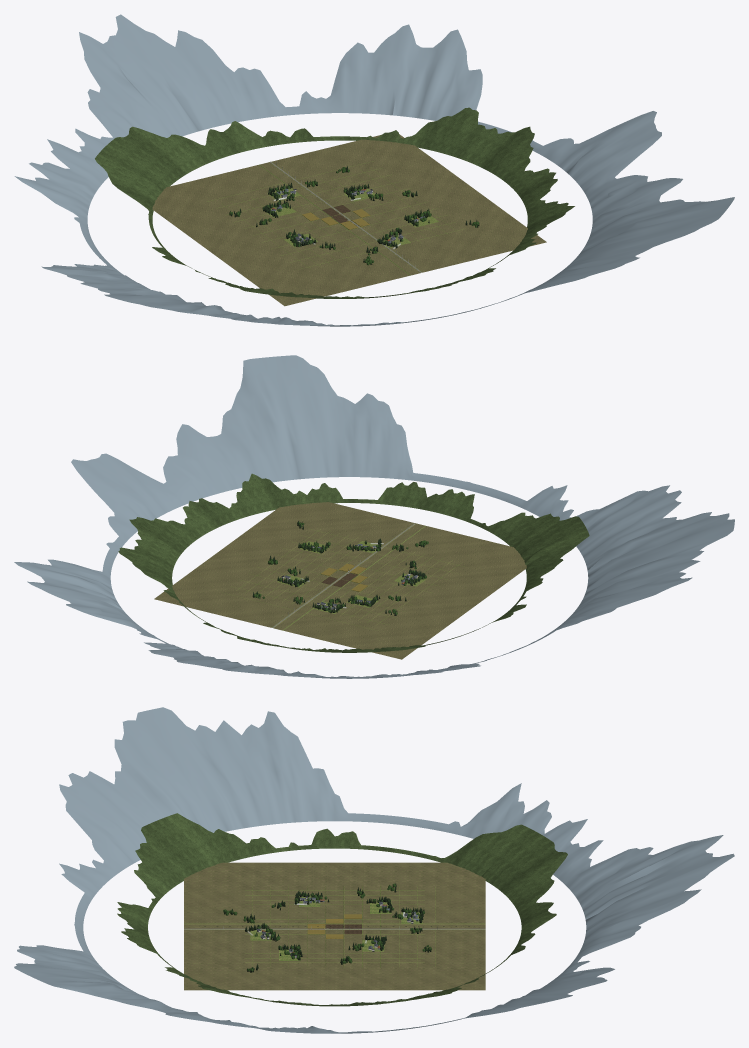
The model's file is field_tanbo_aki.glb.
3 renders of one model, top to bottom at view 1: azimuth 30°, elevation 25°; view 2: azimuth 150°, elevation 25°; view 3: azimuth 270°, elevation 25°, orthographic. The views are drawn at different scales.
Parts seen in each view (by area): view 1: Hills, Neighbors, Trees, Houses, NeighborsTilled, Levees; view 2: Hills, Neighbors, Trees, Houses, NeighborsTilled; view 3: Hills, Neighbors, Trees, Houses, Levees, NeighborsTilled.
Boxes of the visible parts, x1,y1,x2,y2 form: Hills: [14, 14, 734, 326]; Neighbors: [152, 134, 546, 306]; Trees: [229, 166, 479, 265]; Houses: [264, 188, 438, 249]; NeighborsTilled: [302, 205, 370, 229]; Levees: [259, 161, 422, 275]; Hills: [14, 355, 734, 678]; Neighbors: [154, 502, 526, 659]; Trees: [252, 521, 428, 615]; Houses: [277, 541, 425, 613]; NeighborsTilled: [321, 563, 367, 591]; Hills: [14, 707, 734, 1033]; Neighbors: [184, 862, 485, 990]; Trees: [223, 883, 431, 972]; Houses: [247, 895, 422, 960]; Levees: [184, 923, 485, 929]; NeighborsTilled: [307, 914, 361, 938].
Bounding box in the file's own units: 2031 × 201 × 2007.
Materials: 43 (14 with a texture image).
